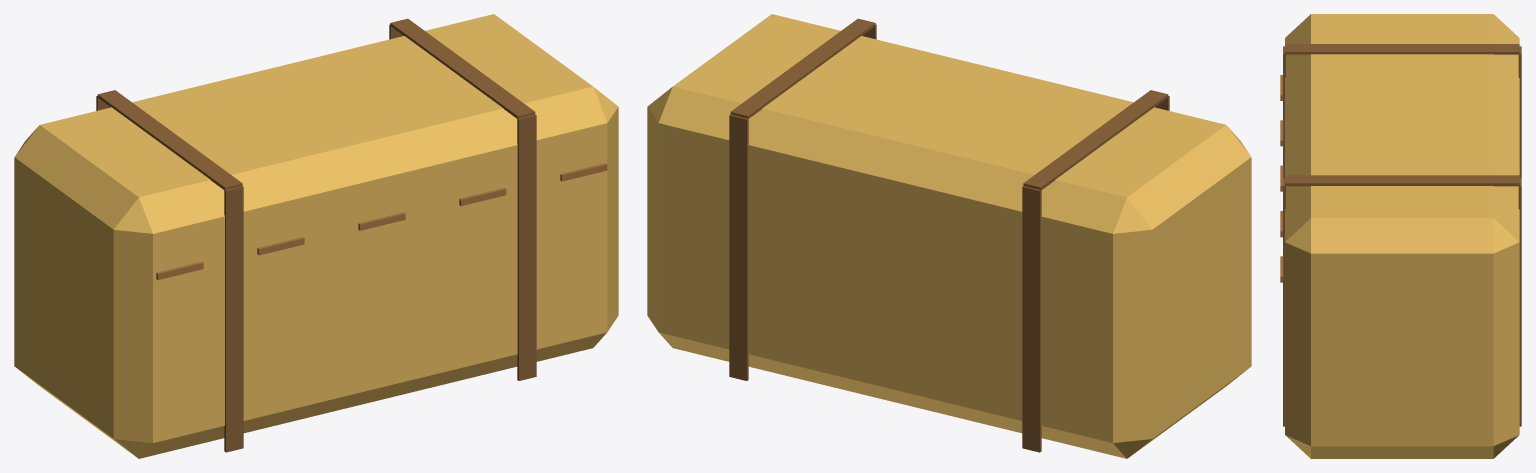
File: P_hay_bale.glb
3 views of the same model, side by side, from view 1: azimuth 30°, elevation 25°; view 2: azimuth 150°, elevation 25°; view 3: azimuth 270°, elevation 25° (orthographic). The views are drawn at different scales.
Parts seen in each view (by area): view 1: HayBale, BaleBindings, StrawMarks; view 2: HayBale, BaleBindings; view 3: HayBale, BaleBindings, StrawMarks.
Part boxes in pixels (box(x1,y1,x2,y2)): HayBale: box(14, 14, 618, 458); BaleBindings: box(96, 18, 536, 452); StrawMarks: box(156, 163, 607, 279); HayBale: box(647, 14, 1251, 458); BaleBindings: box(729, 18, 1169, 452); HayBale: box(1285, 14, 1519, 458); BaleBindings: box(1283, 44, 1521, 426); StrawMarks: box(1280, 75, 1283, 282).
Bounding box in the file's own units: 1 × 0.5 × 0.45.
